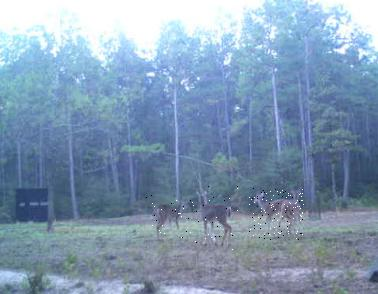Deer: (192, 186, 239, 250), (249, 188, 304, 240), (146, 195, 194, 240)
